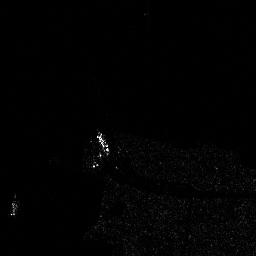ship: (97, 131, 110, 155)
